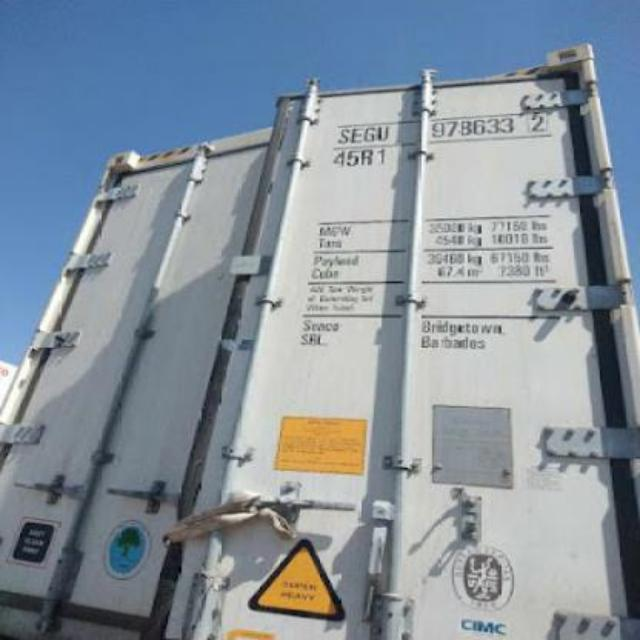2: (530, 113, 546, 131)
3: (498, 112, 518, 134), (484, 117, 502, 137)
6: (472, 118, 486, 138)
7: (446, 118, 458, 138)
8: (458, 118, 474, 138)
9: (424, 117, 446, 143)
E: (348, 123, 366, 147)
G: (362, 122, 378, 144)
S: (334, 124, 350, 144)
U: (378, 122, 392, 146)
